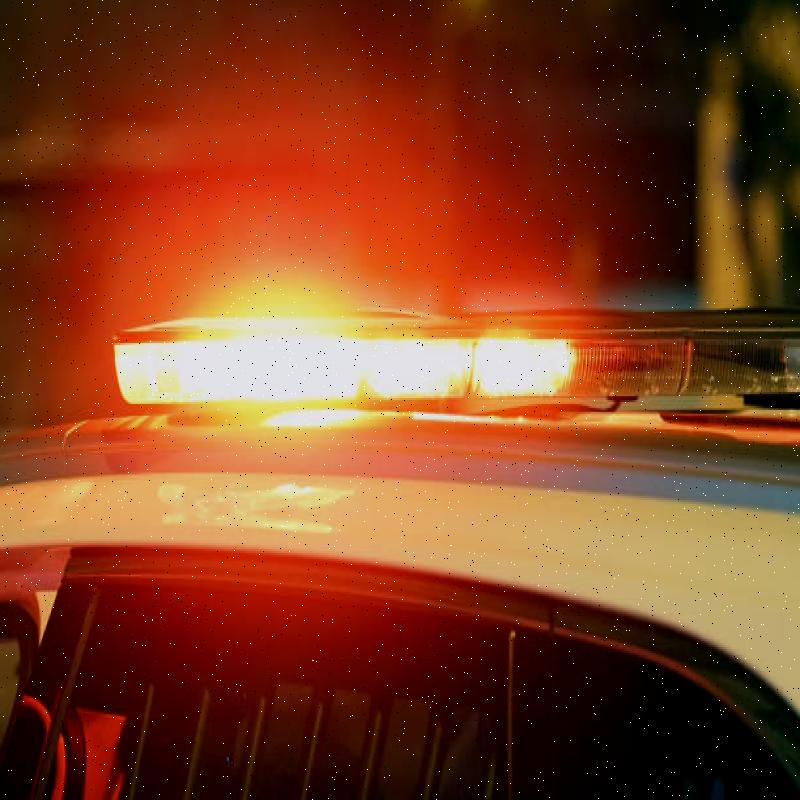AmbulanceSiren: (97, 219, 800, 490)
